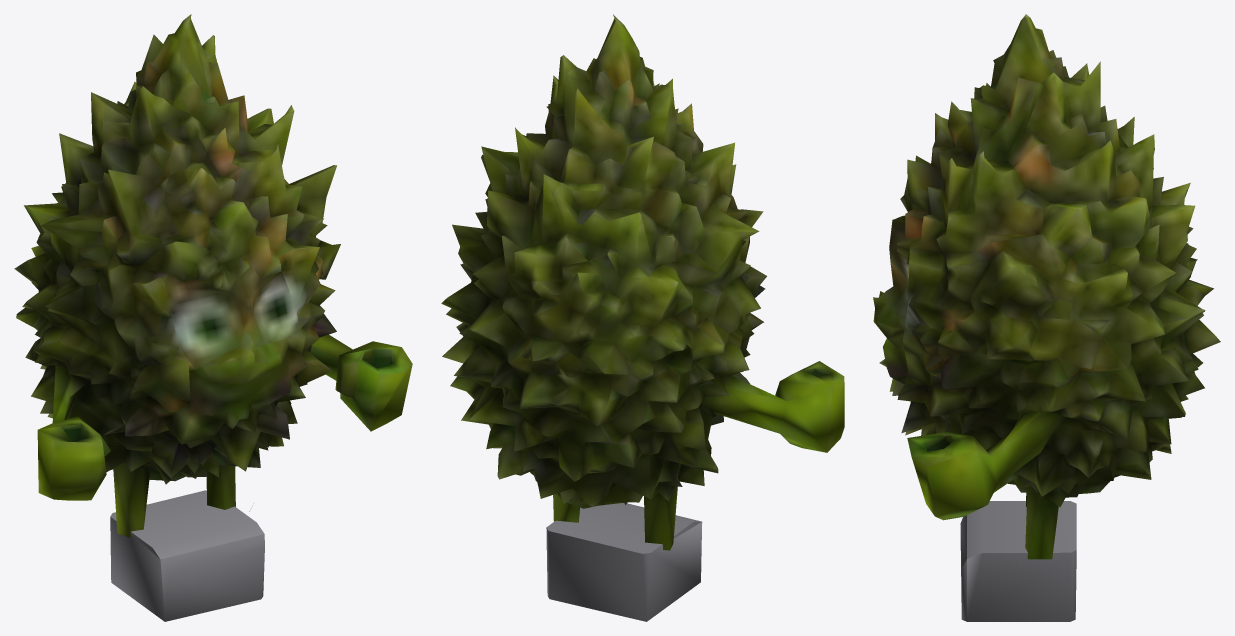
Rendered from maria_baja.glb.
3 renders of one model, left to right at view 1: azimuth 30°, elevation 25°; view 2: azimuth 150°, elevation 25°; view 3: azimuth 270°, elevation 25°, orthographic. The views are drawn at different scales.
Parts seen in each view (by area): view 1: maria; view 2: maria; view 3: maria.
Part boxes in pixels (<box>): maria: <box>14,14,412,621</box>; maria: <box>441,14,844,621</box>; maria: <box>873,14,1220,621</box>.
Bounding box in the file's own units: 1.31 × 1.99 × 1.07.
Materials: 2 (1 with a texture image).
